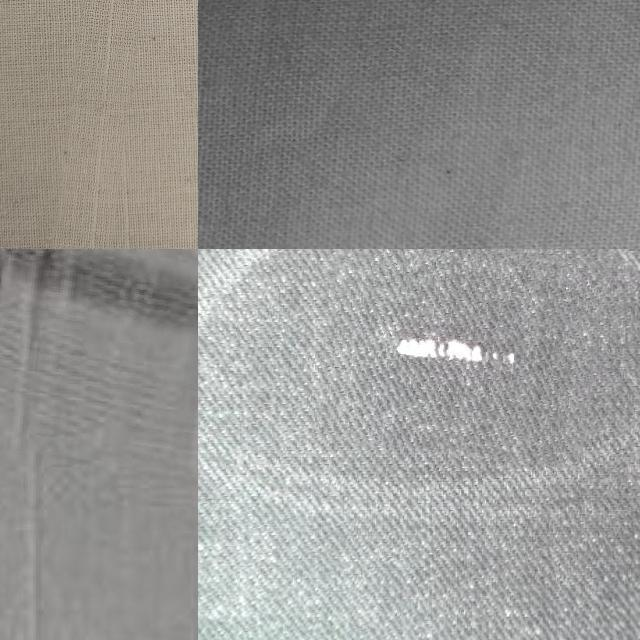stains: (318, 249, 600, 461), (0, 249, 198, 503), (68, 0, 166, 249)
